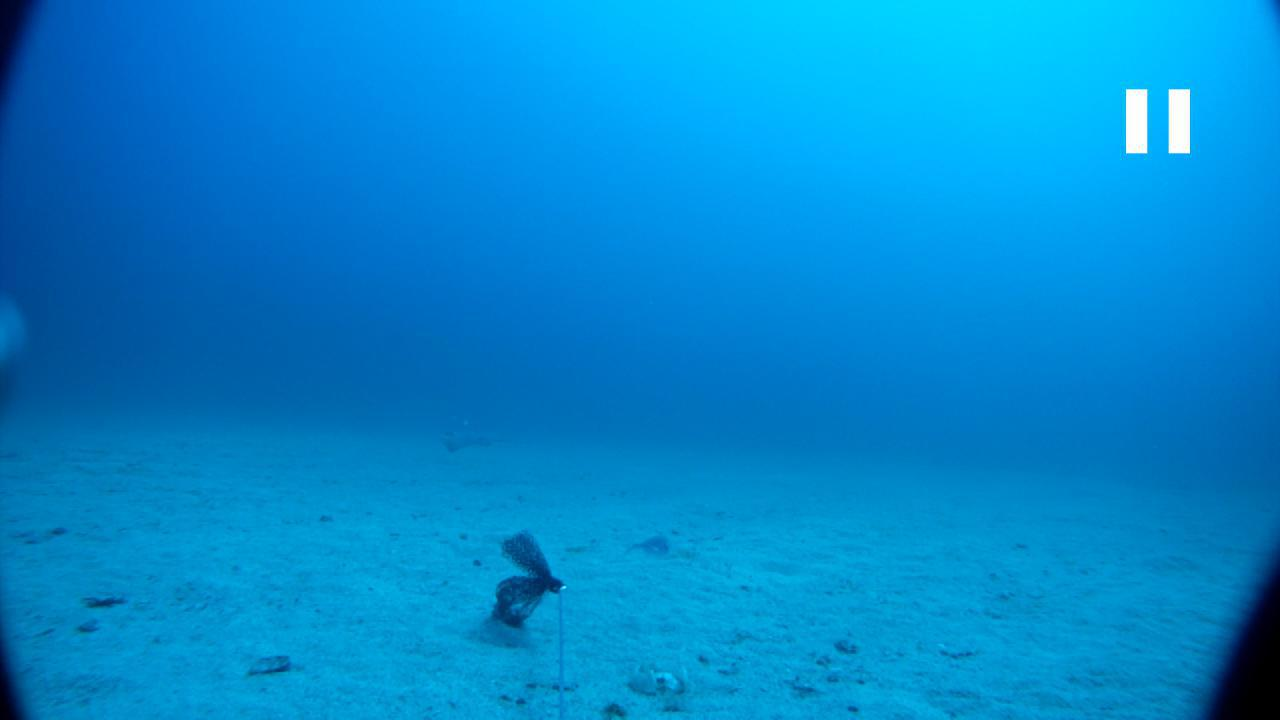dasyatis: (439, 429, 514, 450)
